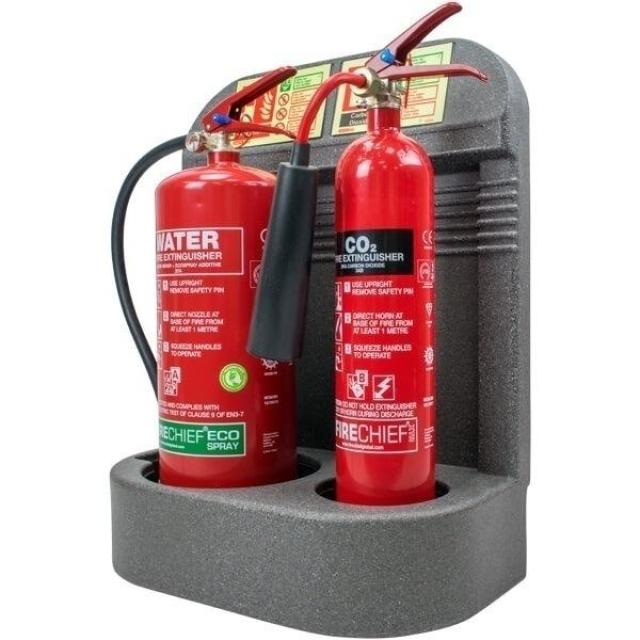fire_extinguisher: (240, 0, 492, 559), (97, 60, 307, 539)
